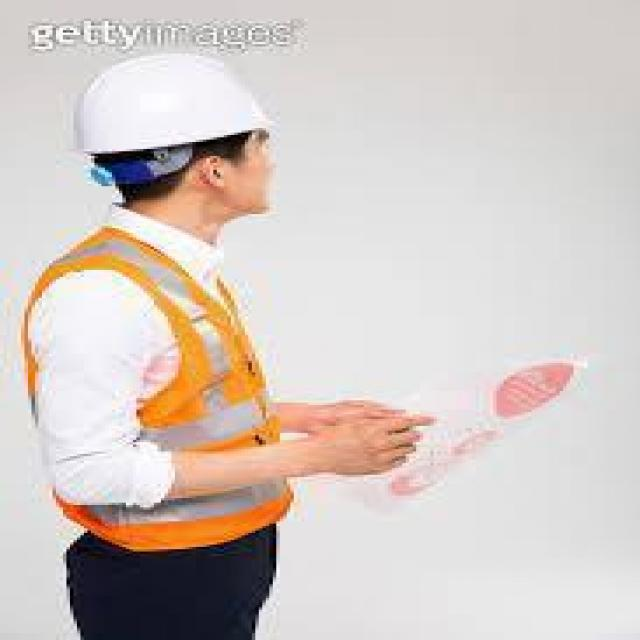hat: (70, 54, 276, 154)
